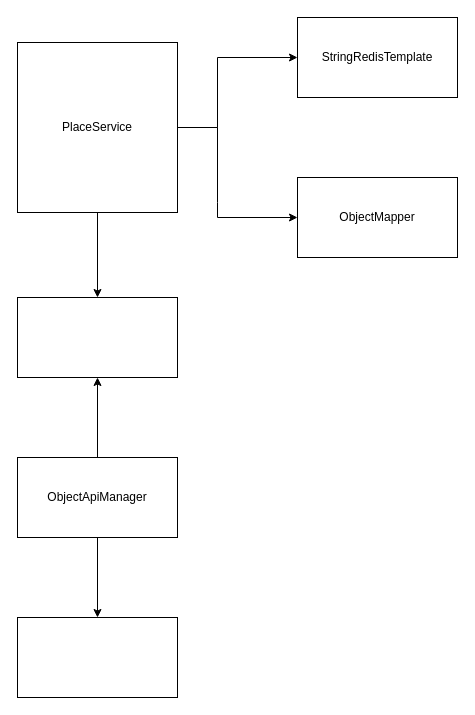
Image size: 475x715. Some labels were removed from this diagram. The centre of each missing label's shape, as x and y in pixels:
"OpenApi" goes at pixel 97 657.
"PlaceRepository" goes at pixel 97 337.
